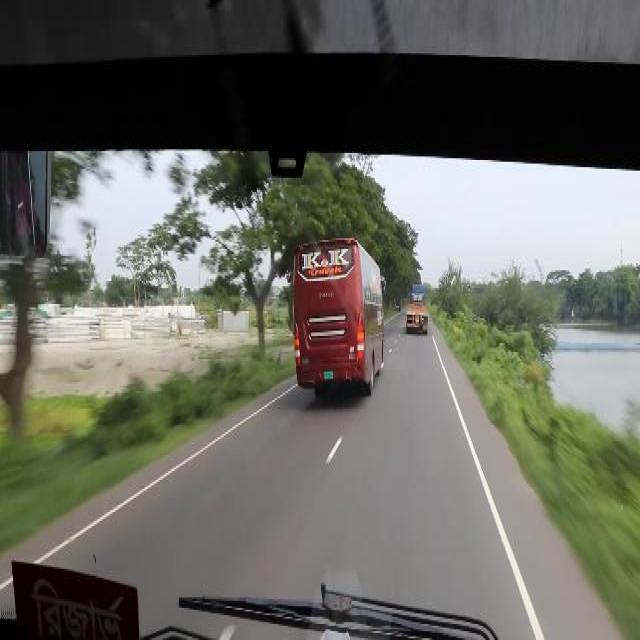bus: (294, 238, 384, 395)
truck: (406, 282, 426, 333)
